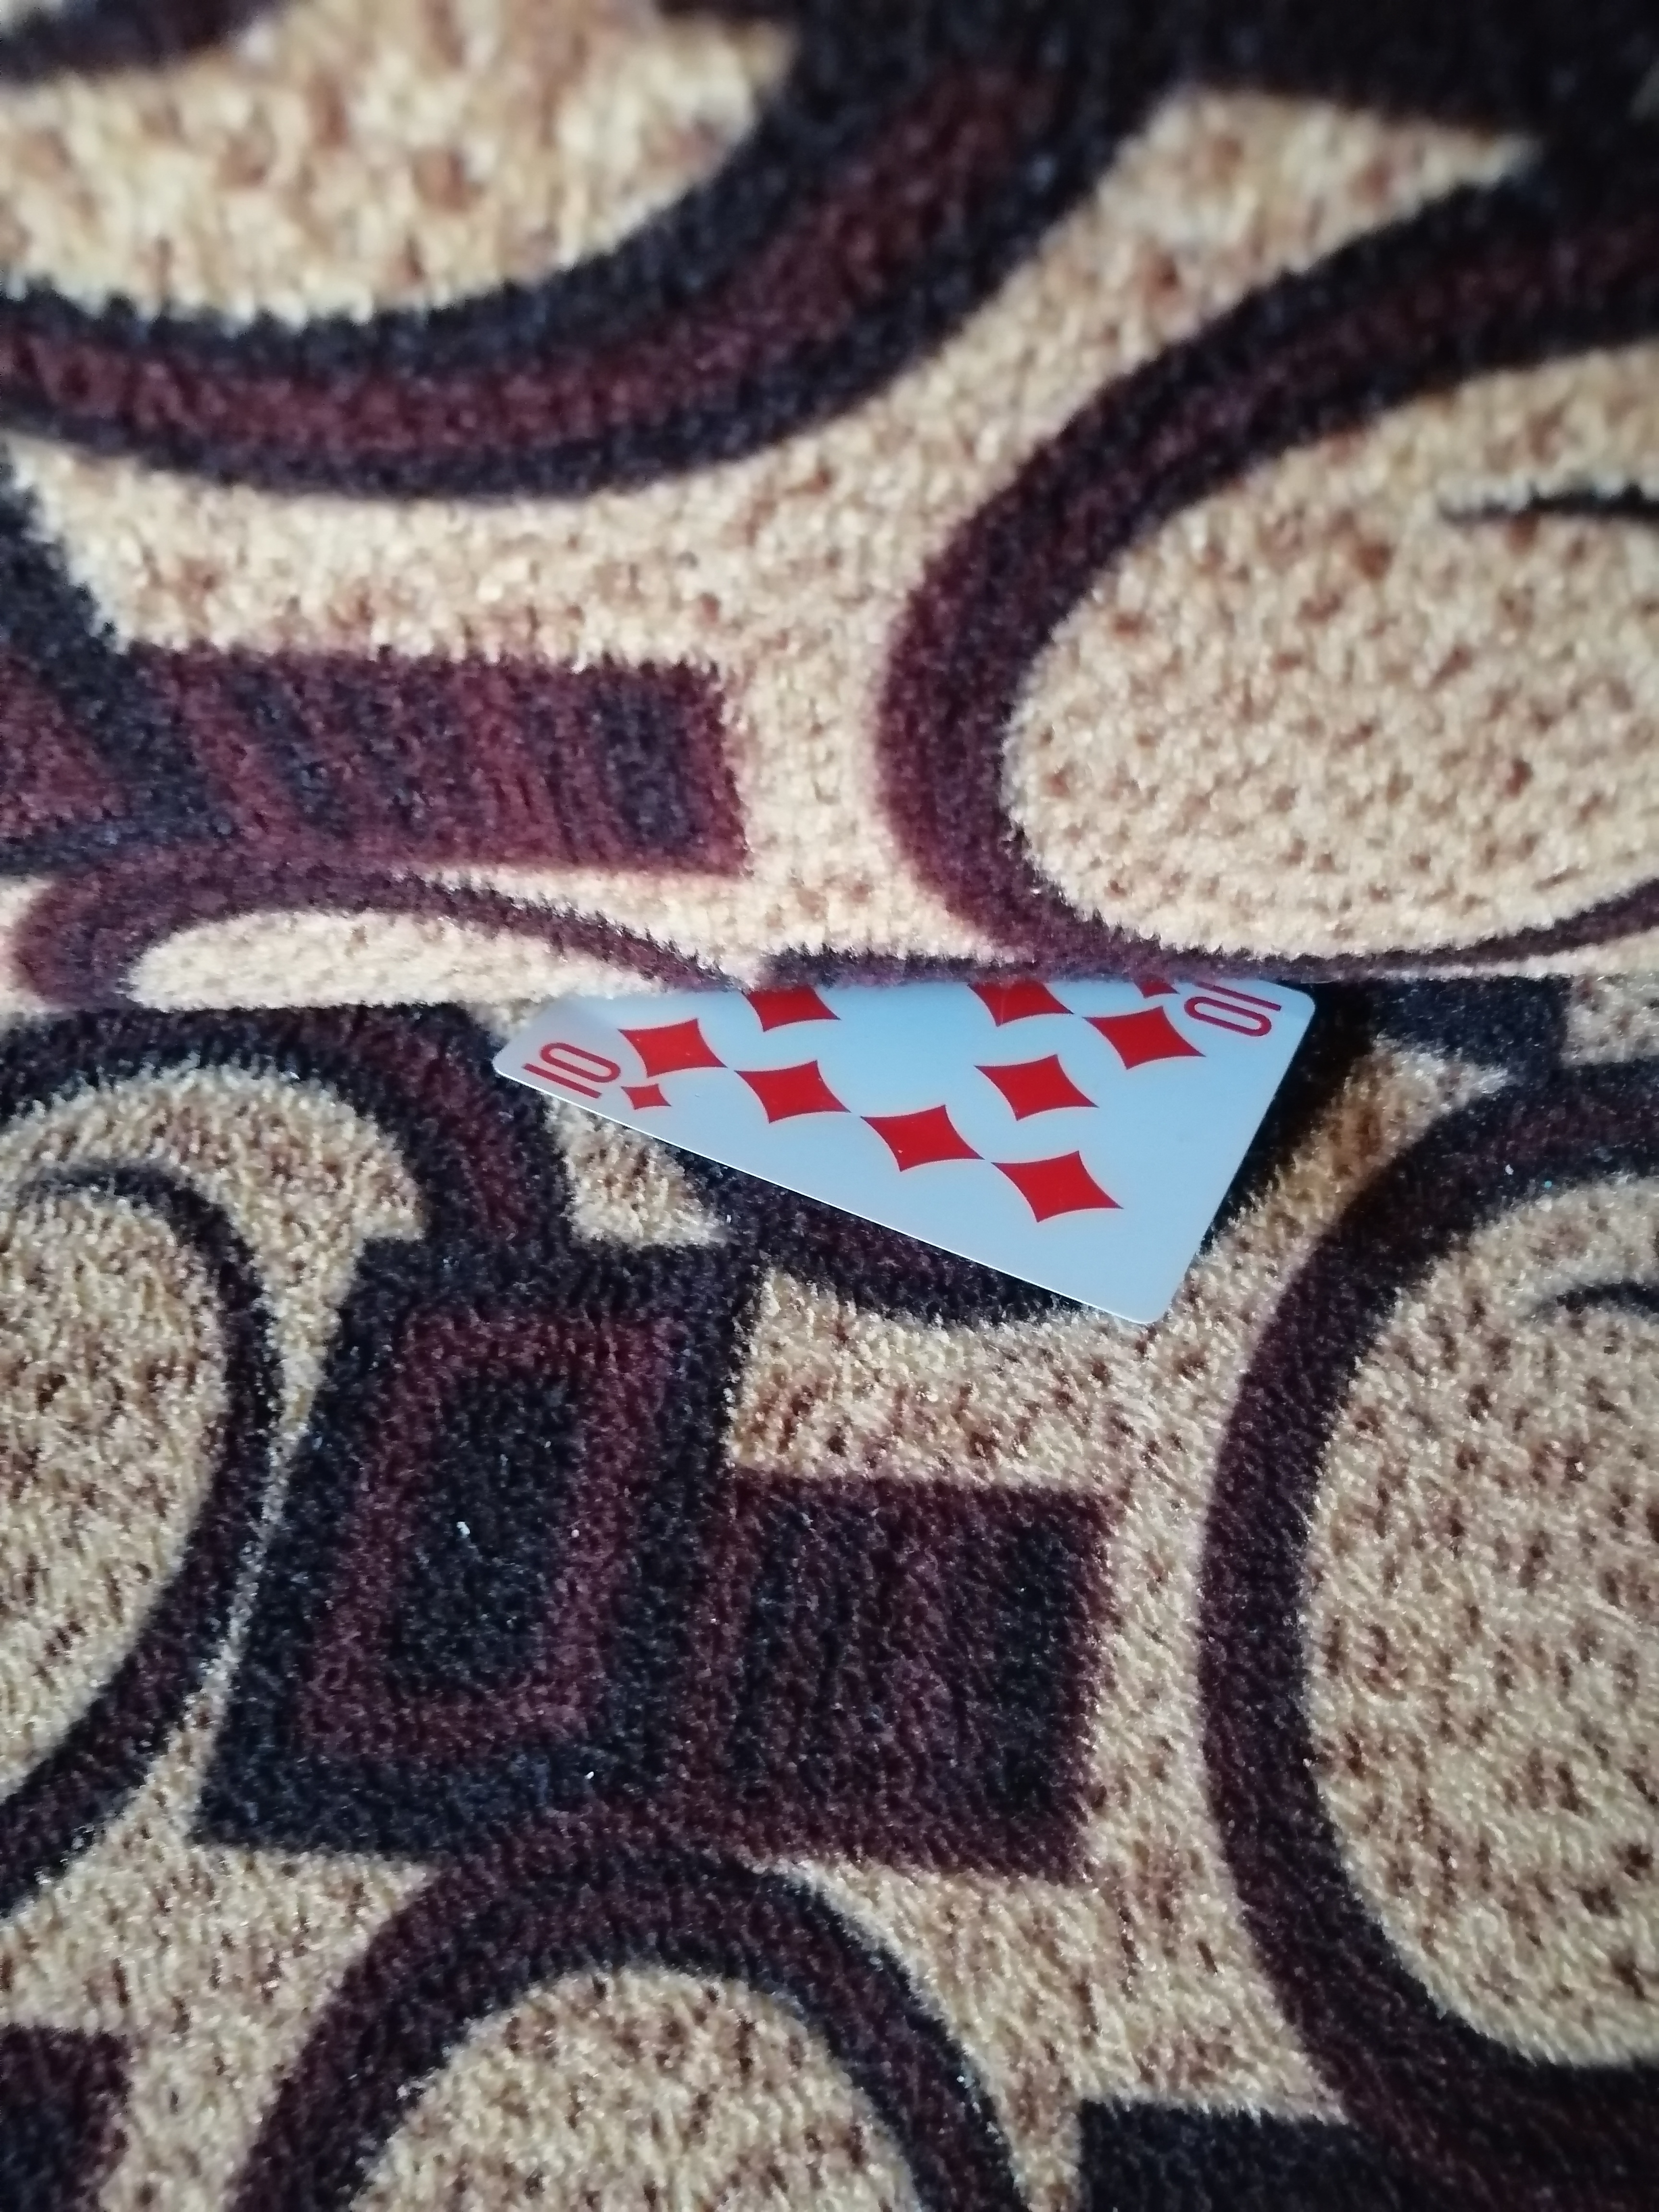ten: (502, 941, 1345, 1336)
